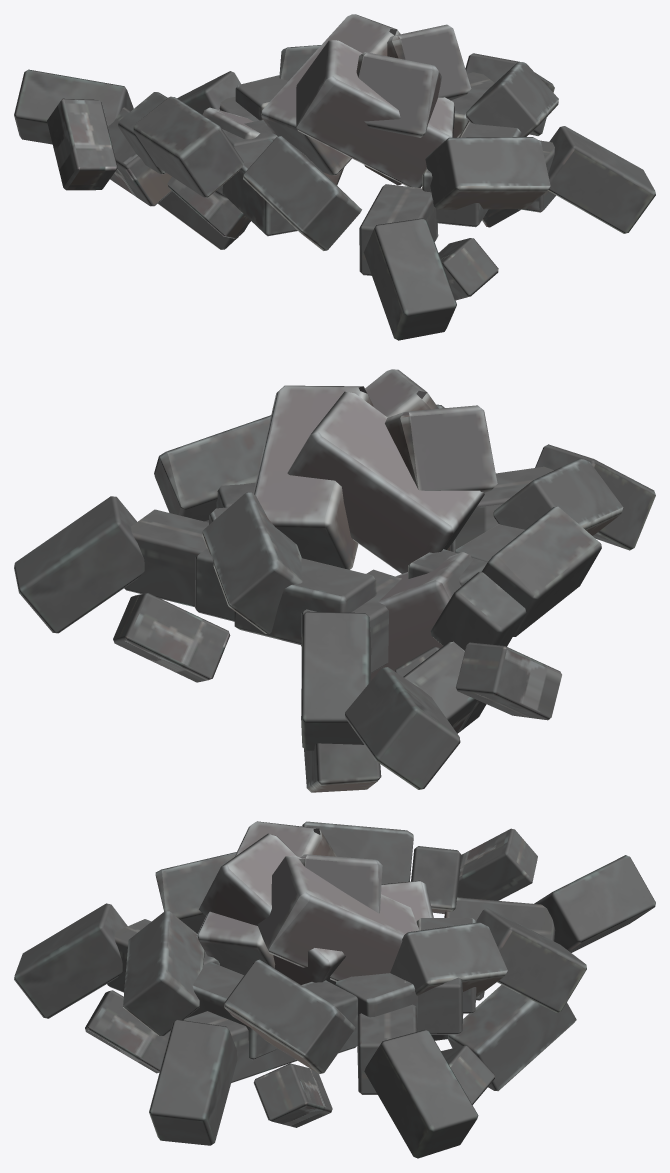
Rendered from brickss.fbx.
3 renders of one model, top to bottom at view 1: azimuth 30°, elevation 25°; view 2: azimuth 150°, elevation 25°; view 3: azimuth 270°, elevation 25°, orthographic. The views are drawn at different scales.
Parts seen in each view (by area): view 1: BricksWall.076; view 2: BricksWall.076; view 3: BricksWall.076.
Boxes of the visible parts, <box> form: BricksWall.076: <box>14,14,655,340</box>; BricksWall.076: <box>14,369,655,792</box>; BricksWall.076: <box>14,821,655,1158</box>.
Size of the model in its own units: 1309 by 600 by 1155.
1 material, 1 textured.
